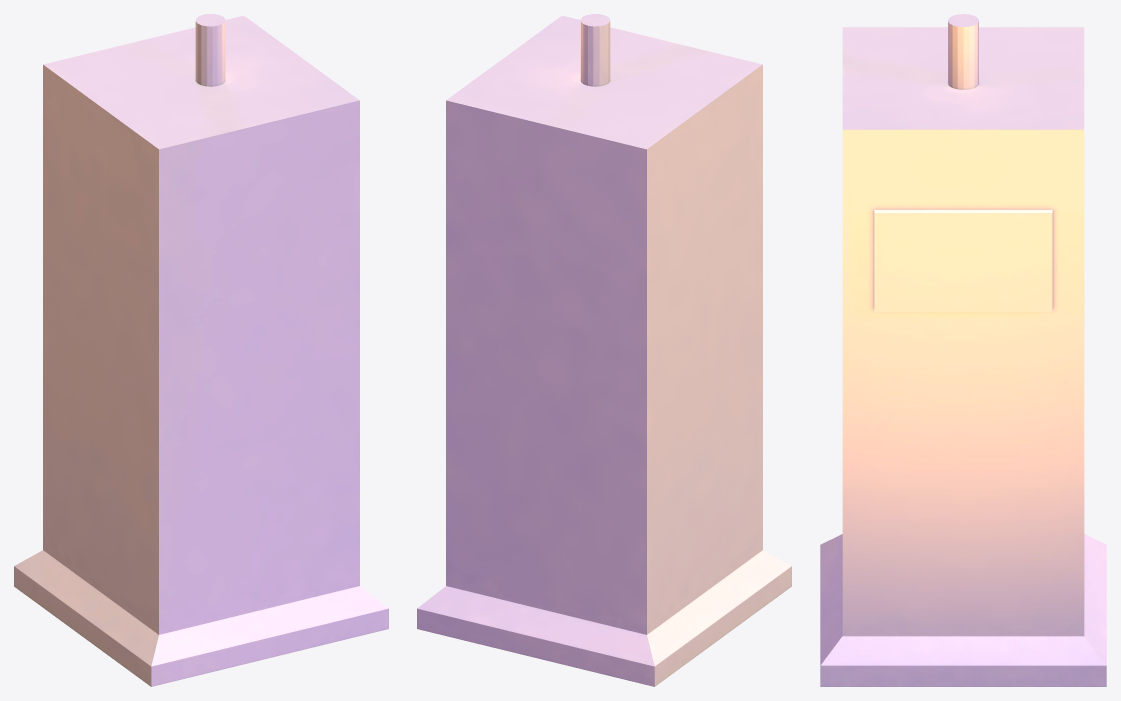
The model's file is socle.glb.
The picture shows the model from 3 angles, left to right: view 1: azimuth 30°, elevation 25°; view 2: azimuth 150°, elevation 25°; view 3: azimuth 270°, elevation 25°; orthographic projection. The views are drawn at different scales.
Visible parts, largest first — view 1: module_1; view 2: module_1; view 3: module_1.
Part boxes in pixels (left/top/right/bottom): module_1: left=14, top=14, right=388, bottom=686; module_1: left=417, top=14, right=791, bottom=686; module_1: left=820, top=14, right=1106, bottom=686.
Bounding box in the file's own units: 66.61 × 157 × 66.61.
